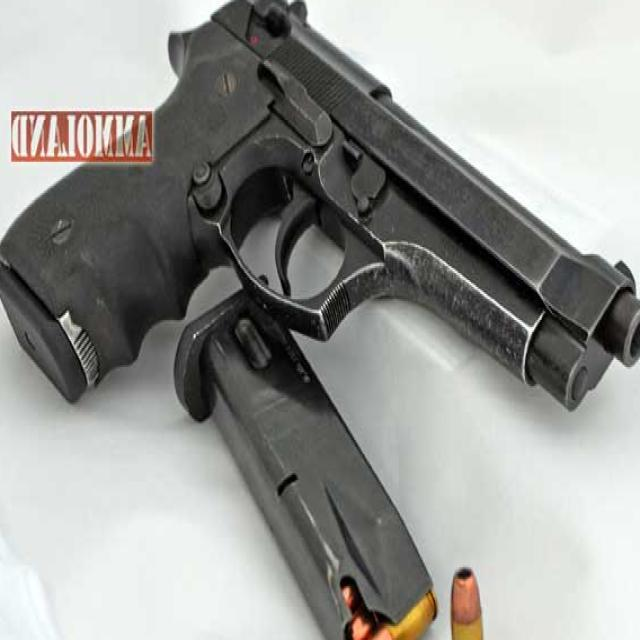Gun: (1, 11, 624, 630)
